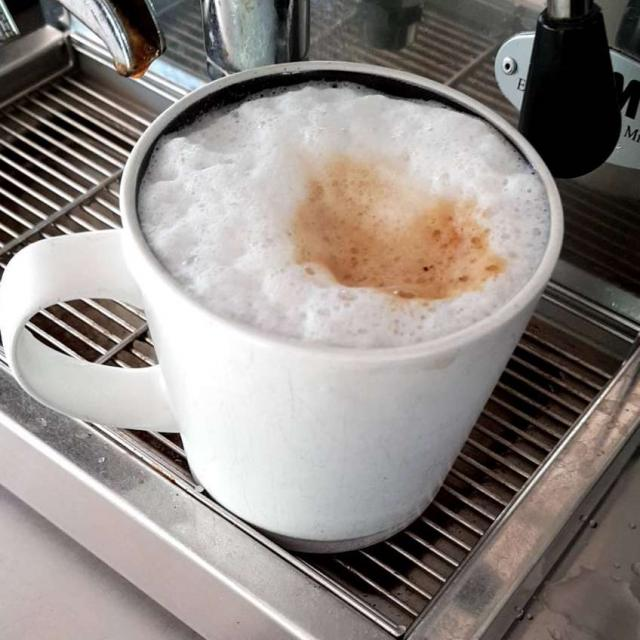coffee-with-caffeine: (147, 85, 542, 344)
milk: (155, 98, 551, 335)
